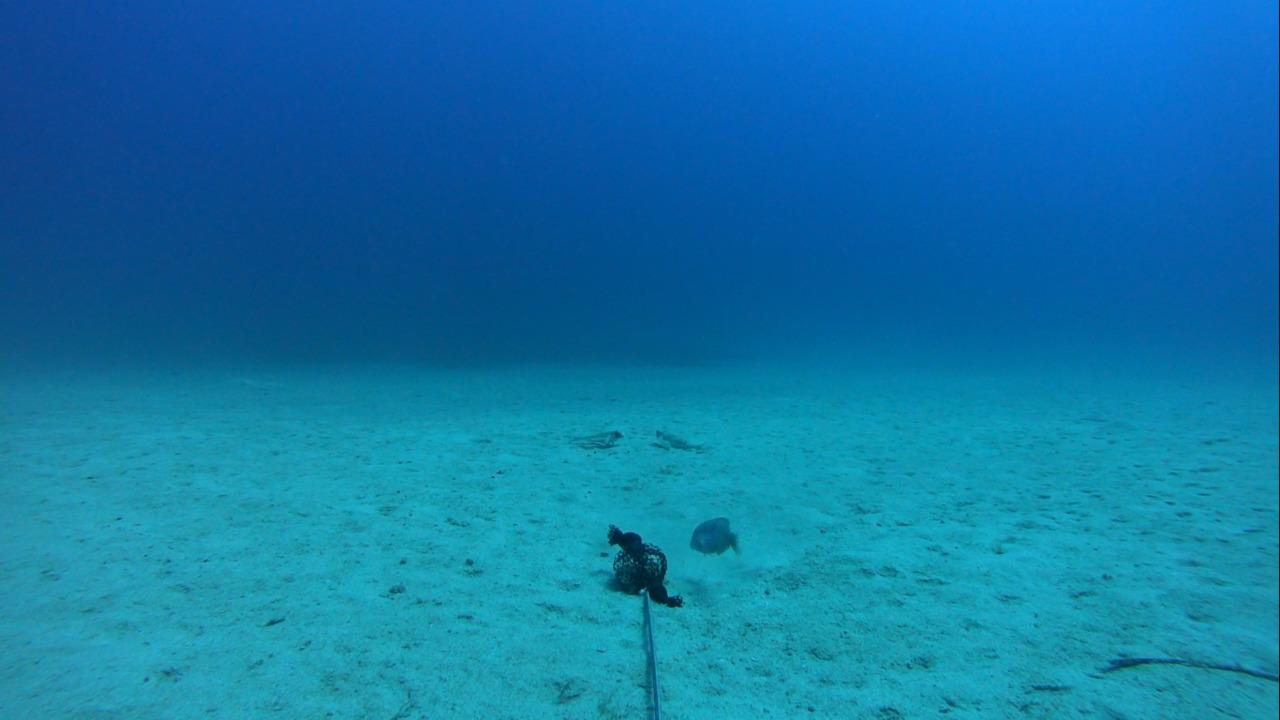dactylopterus: (550, 419, 623, 451), (636, 421, 701, 456)
raor: (686, 511, 747, 558)
